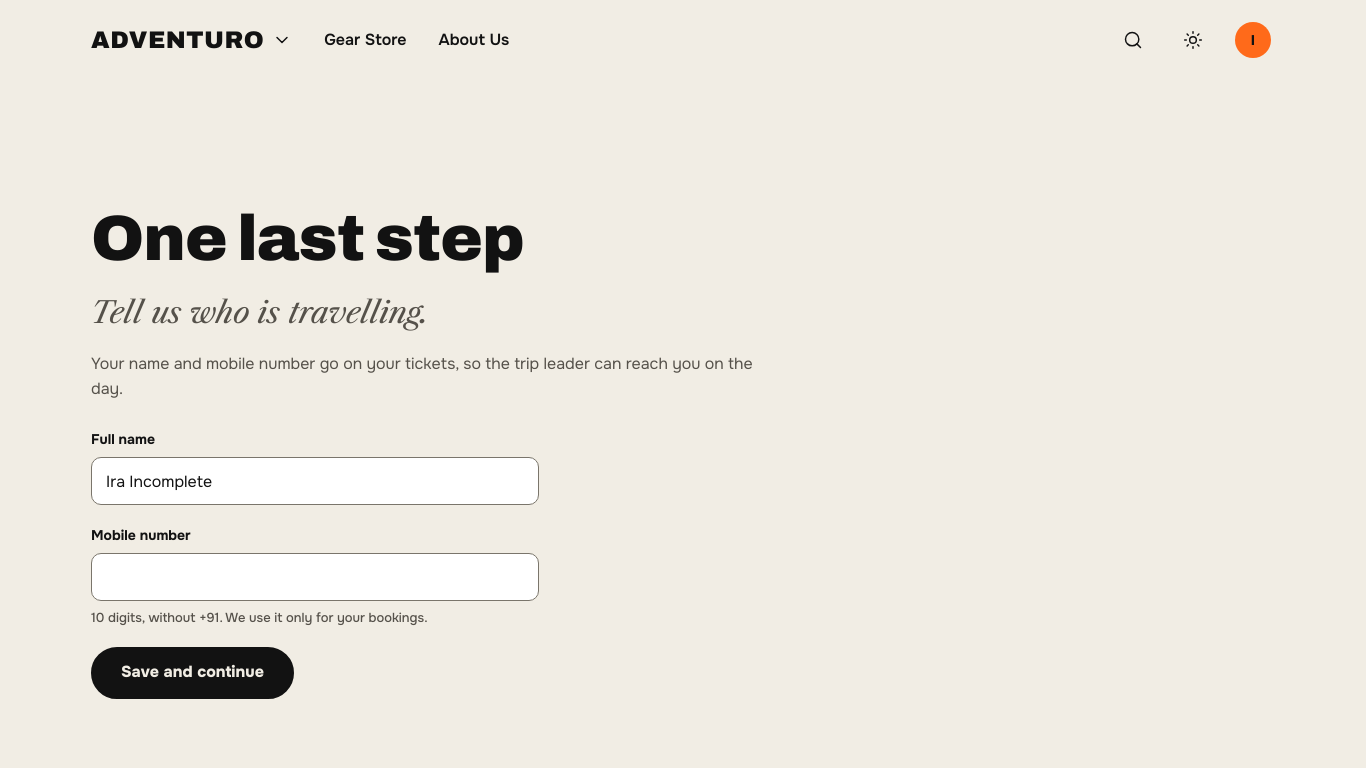
Scenario: onboarding › shows a taken phone number on the phone field
Expected: the heading "One last step" is shown, [91,204,524,274]
In the field labelled "Mobile number": (315, 578) [91,554,539,602], type "9876543210"
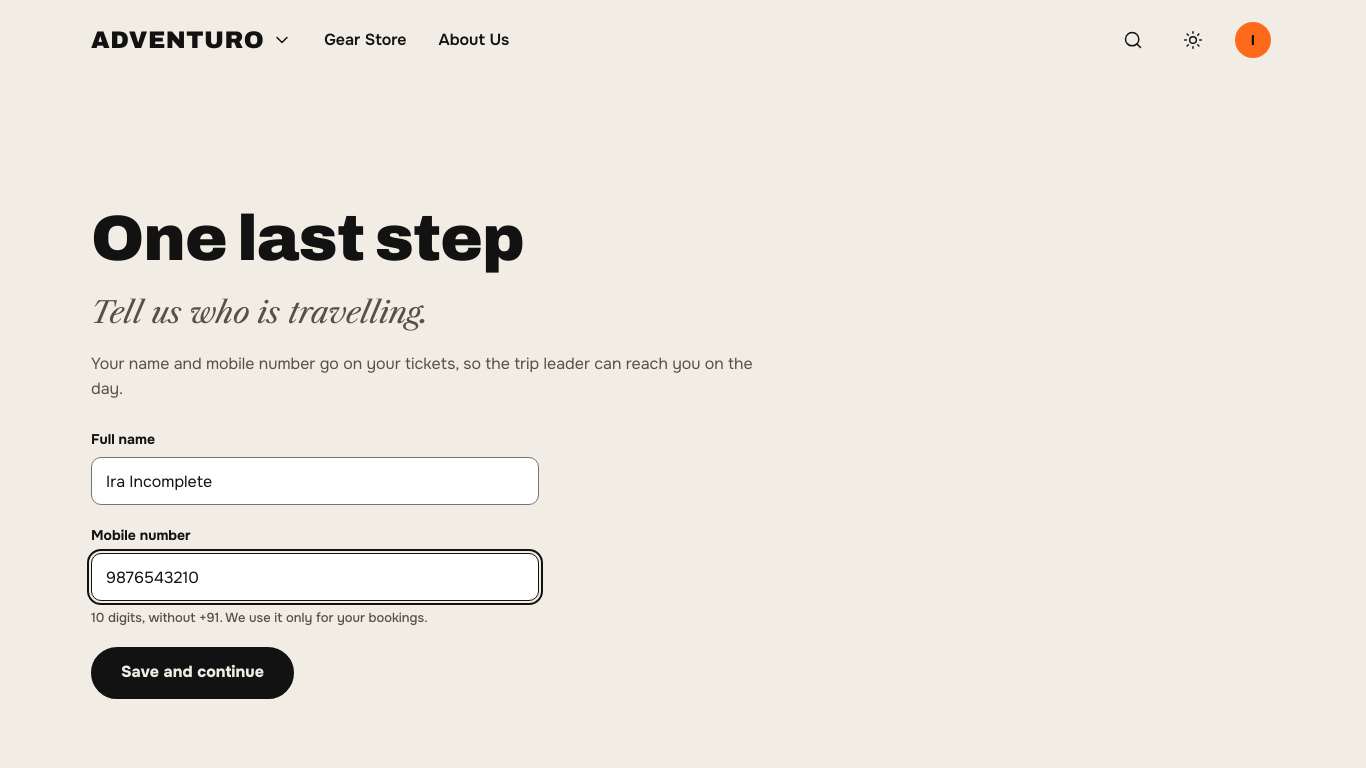
Click the button "Save and continue": (192, 673) [91,647,294,699]
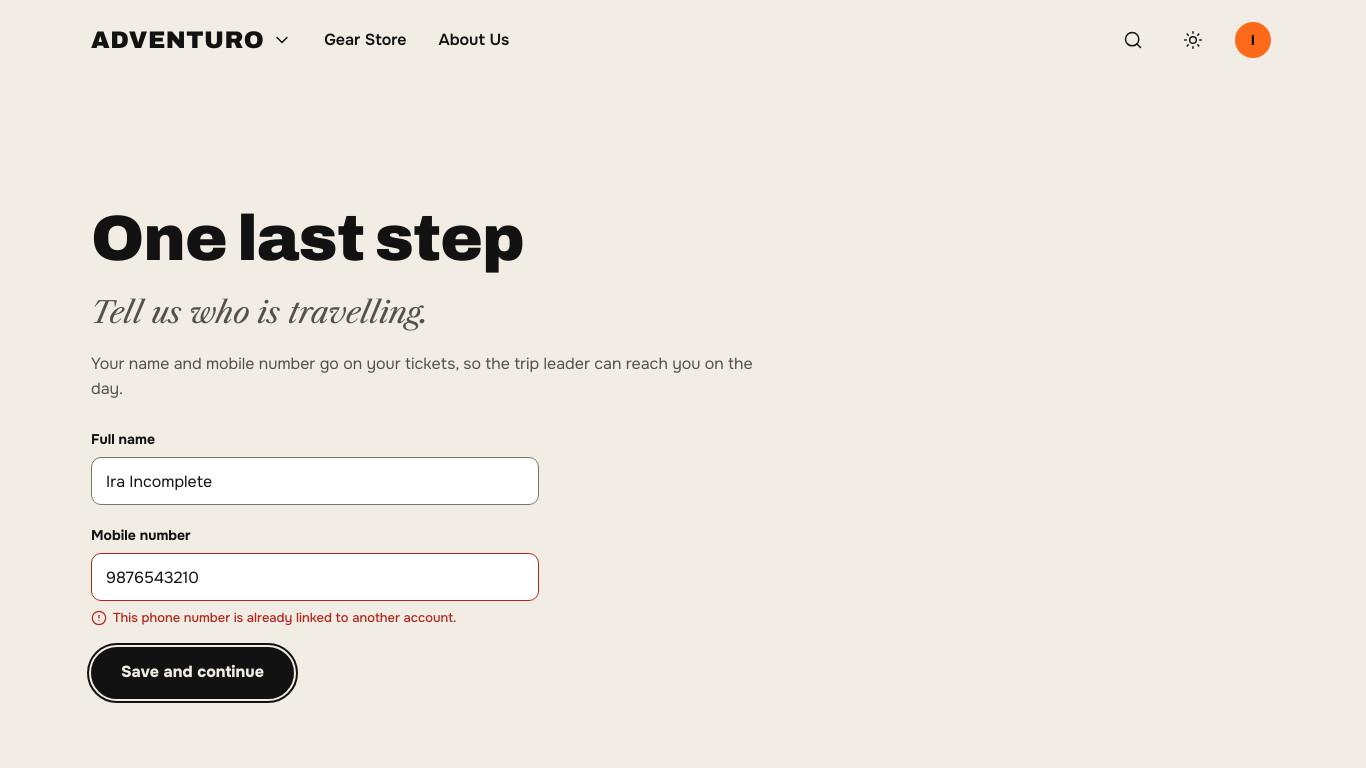
Now the message reads "This phone number is already linked to another account.", box [113,610,456,626]
Now the number of messages is 1, box [91,610,456,626]
